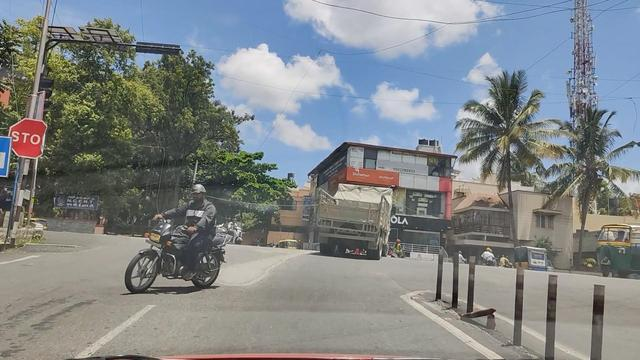HMV: (317, 176, 390, 252)
LMV: (121, 198, 218, 286)
RoadDamages: (0, 273, 96, 360), (216, 244, 303, 292)
